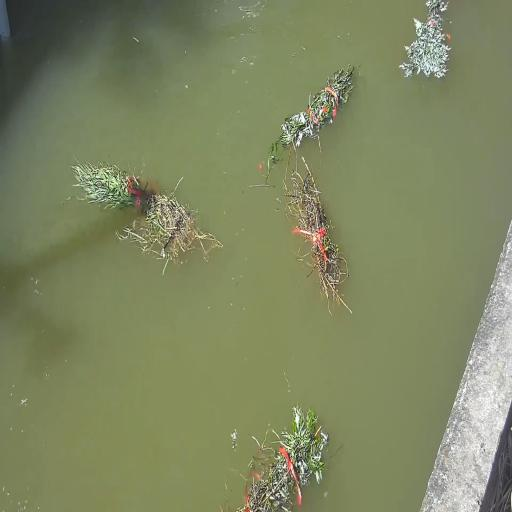twig: (71, 156, 223, 275), (284, 157, 351, 313), (236, 406, 328, 511), (269, 64, 354, 162)
